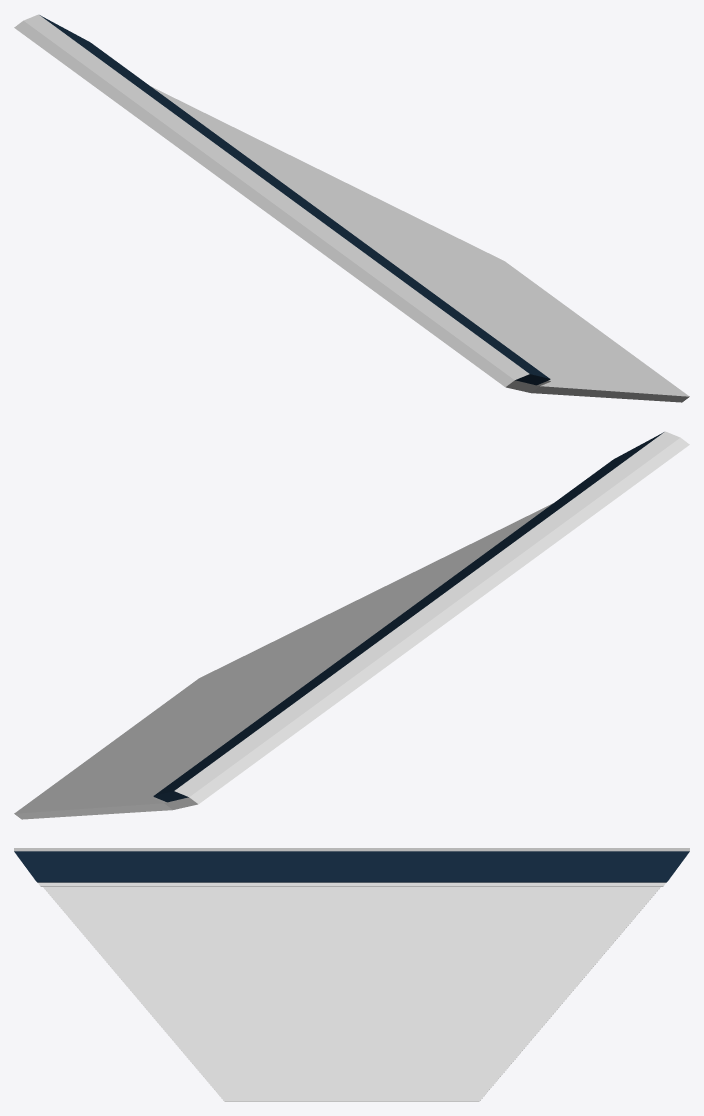
File: WALLS_02.fbx
The picture shows the model from 3 angles, top to bottom: view 1: azimuth 30°, elevation 25°; view 2: azimuth 150°, elevation 25°; view 3: azimuth 270°, elevation 25°; orthographic projection. The views are drawn at different scales.
Parts seen in each view (by area): view 1: Cube.002; view 2: Cube.002; view 3: Cube.002.
Part boxes in pixels (bbox=[...]): Cube.002: bbox=[14, 14, 689, 402]; Cube.002: bbox=[14, 431, 689, 819]; Cube.002: bbox=[14, 848, 689, 1101].
Size of the model in its own units: 536 by 326 by 1352.
